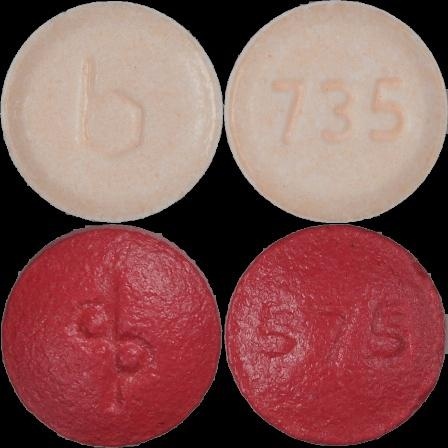0555-9034: (0, 0, 224, 224)
